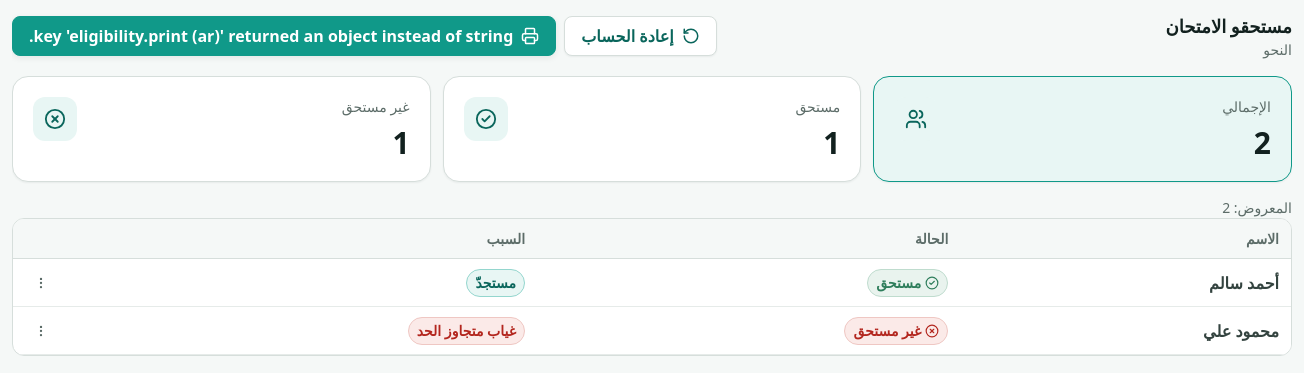
EligibilityPage › filters down to the eligible students for printing
Expected: the text "محمود علي" is shown, 960,307 -> 1291,355
Click the button "مستحق 1" at (818, 106), box 443,76 -> 861,182
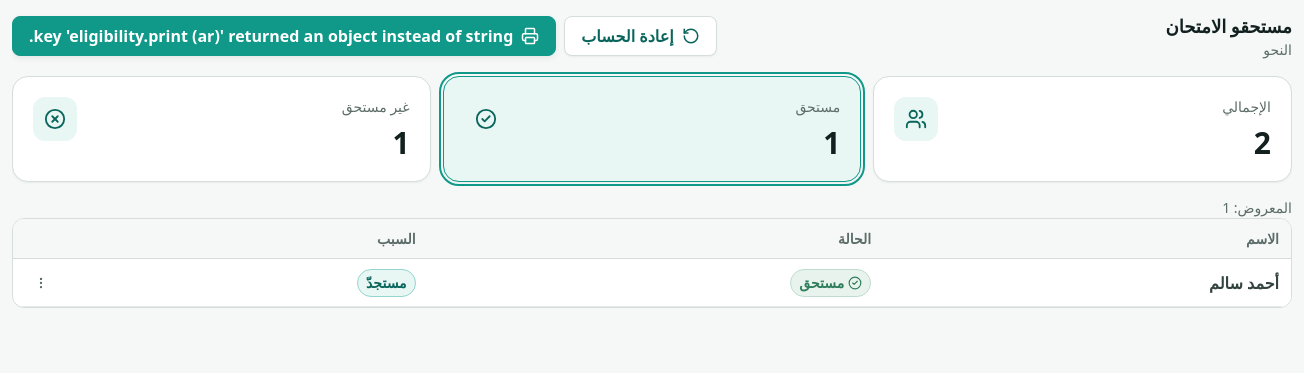
Expected: the text "أحمد سالم" is shown, 883,259 -> 1291,307
Now the text "محمود علي" is gone
